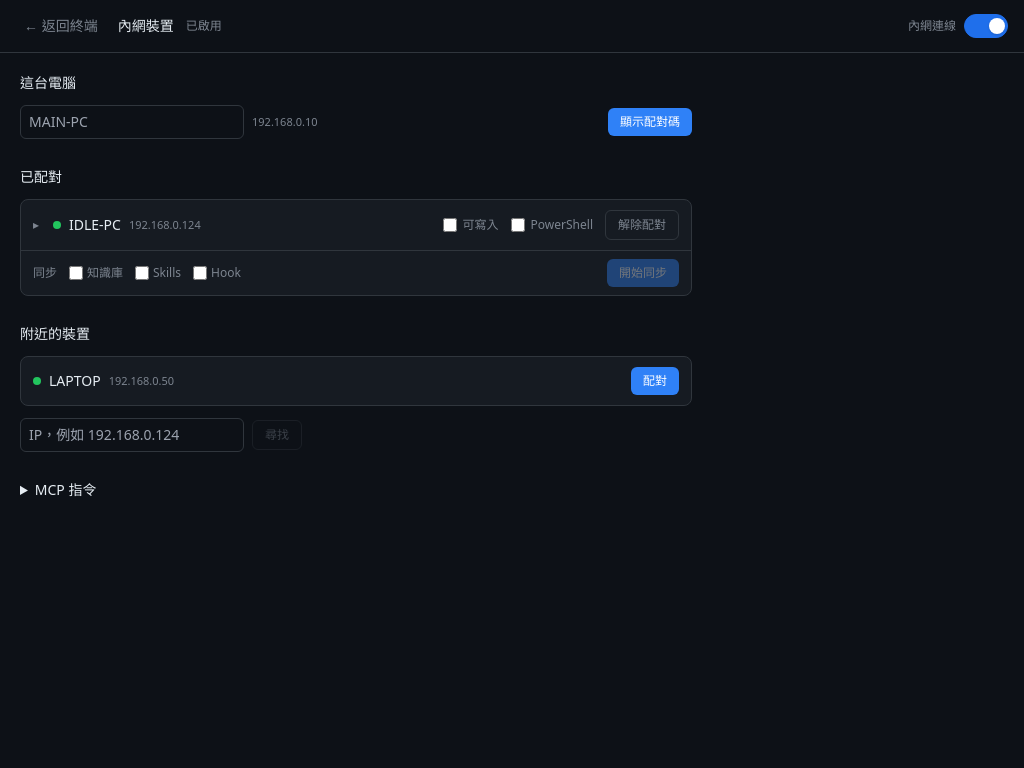
it: DevicesPanel › sends a typed code to the device it was typed for, and shows why it failed
This screenshot has width=1024, height=768.
Expected: the text "IDLE-PC" is shown, [69,215,121,235]
Click the button "配對".
click(655, 381)  # box [631,367,679,395]
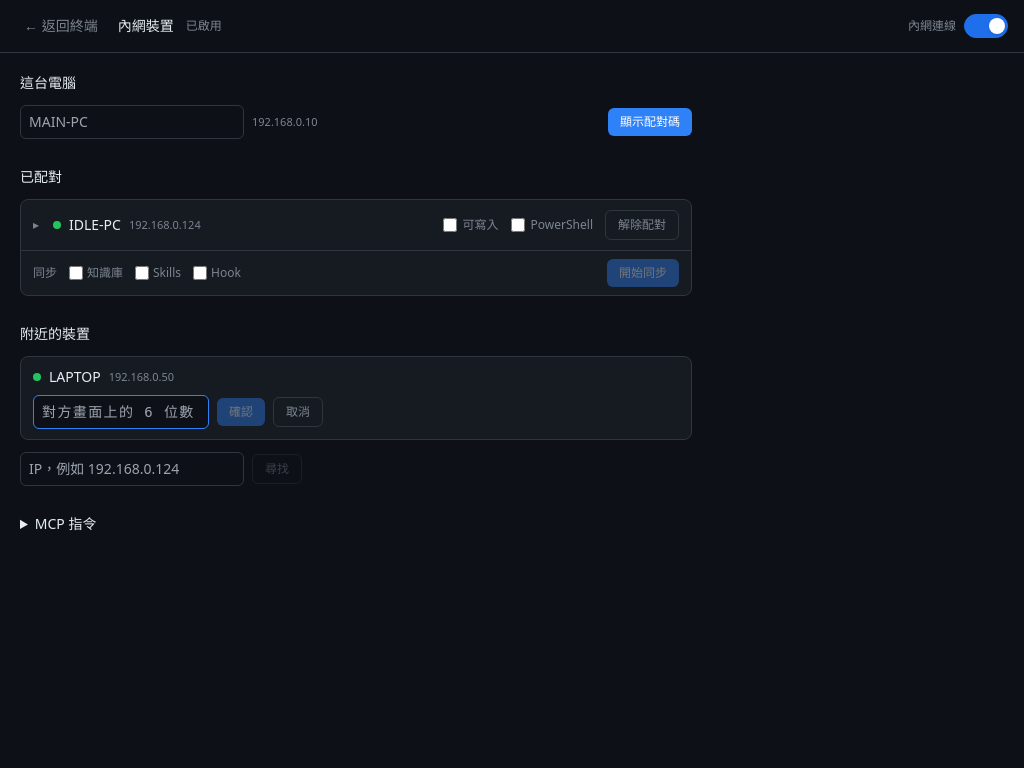
Type "12a3456" into the field with placeholder "對方畫面上的 6 位數".
click(121, 412); type("12a3456")  # box [33,395,209,429]
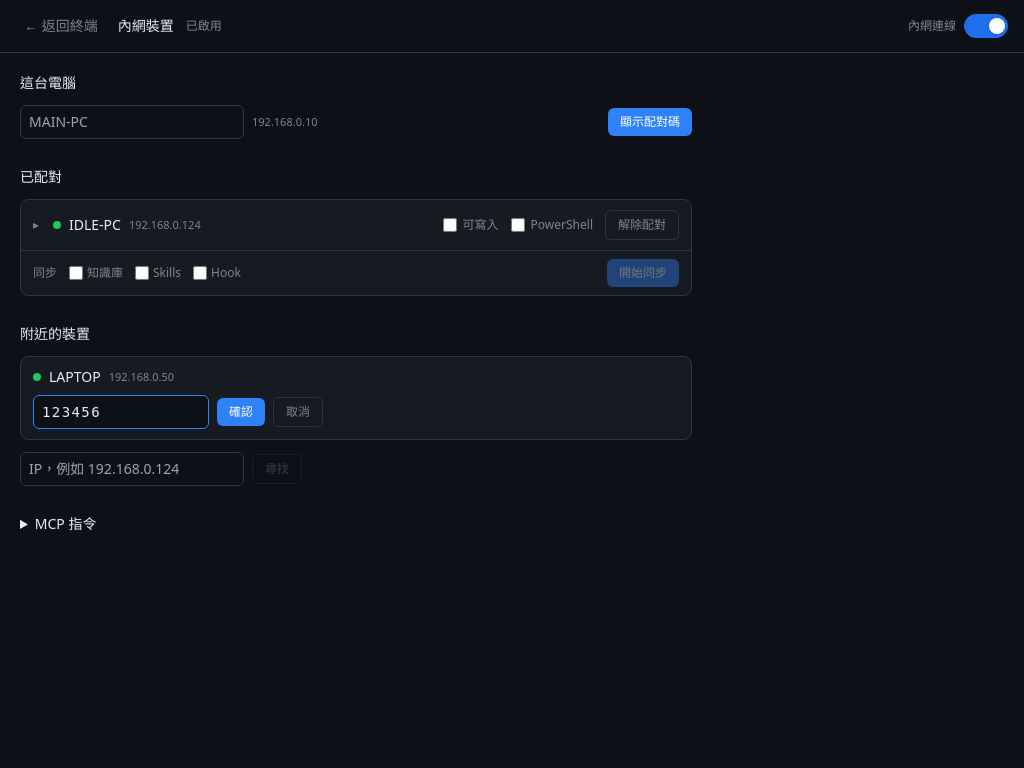
Click the button "確認".
click(241, 412)  # box [217,398,265,426]
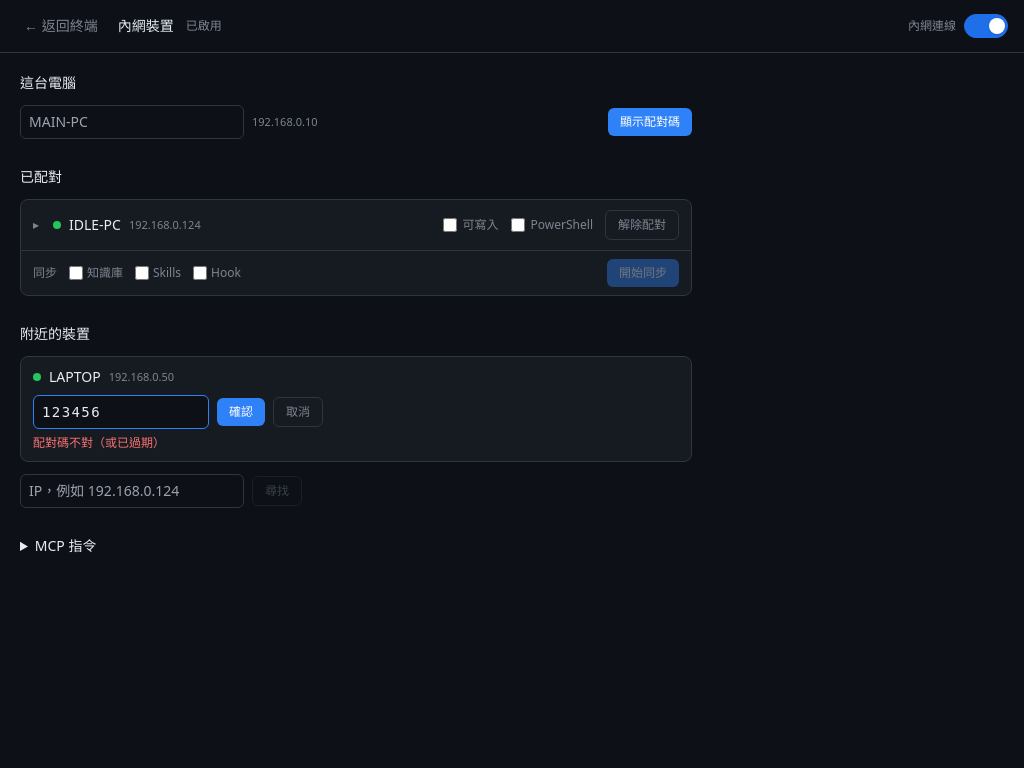
Now the text "配對碼不對（或已過期）" is shown, box [33,434,165,451]
